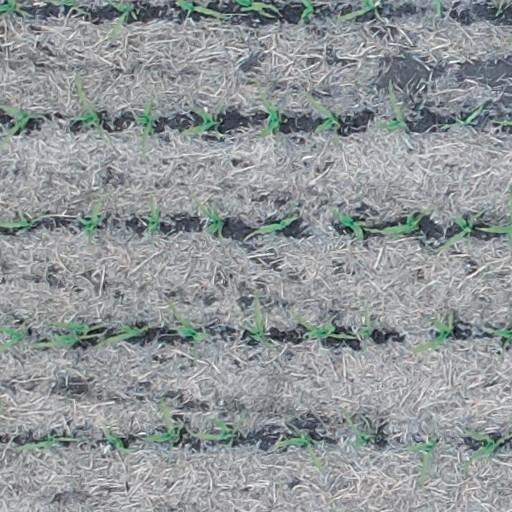planta: (274, 424, 322, 471), (437, 208, 486, 252), (242, 295, 277, 352), (29, 319, 95, 349), (68, 73, 103, 129), (410, 311, 455, 353), (362, 209, 430, 236), (142, 397, 181, 444), (404, 433, 437, 488), (166, 301, 208, 344), (293, 313, 355, 341), (244, 210, 298, 241), (376, 81, 407, 132), (304, 92, 341, 133), (341, 409, 379, 447), (440, 99, 488, 129), (329, 207, 371, 241), (74, 193, 104, 240), (256, 83, 282, 137), (193, 198, 224, 243), (193, 416, 241, 445), (98, 323, 152, 347), (178, 103, 215, 137), (133, 97, 155, 150), (14, 432, 73, 451), (344, 308, 374, 337), (103, 427, 134, 453), (145, 194, 160, 239)
